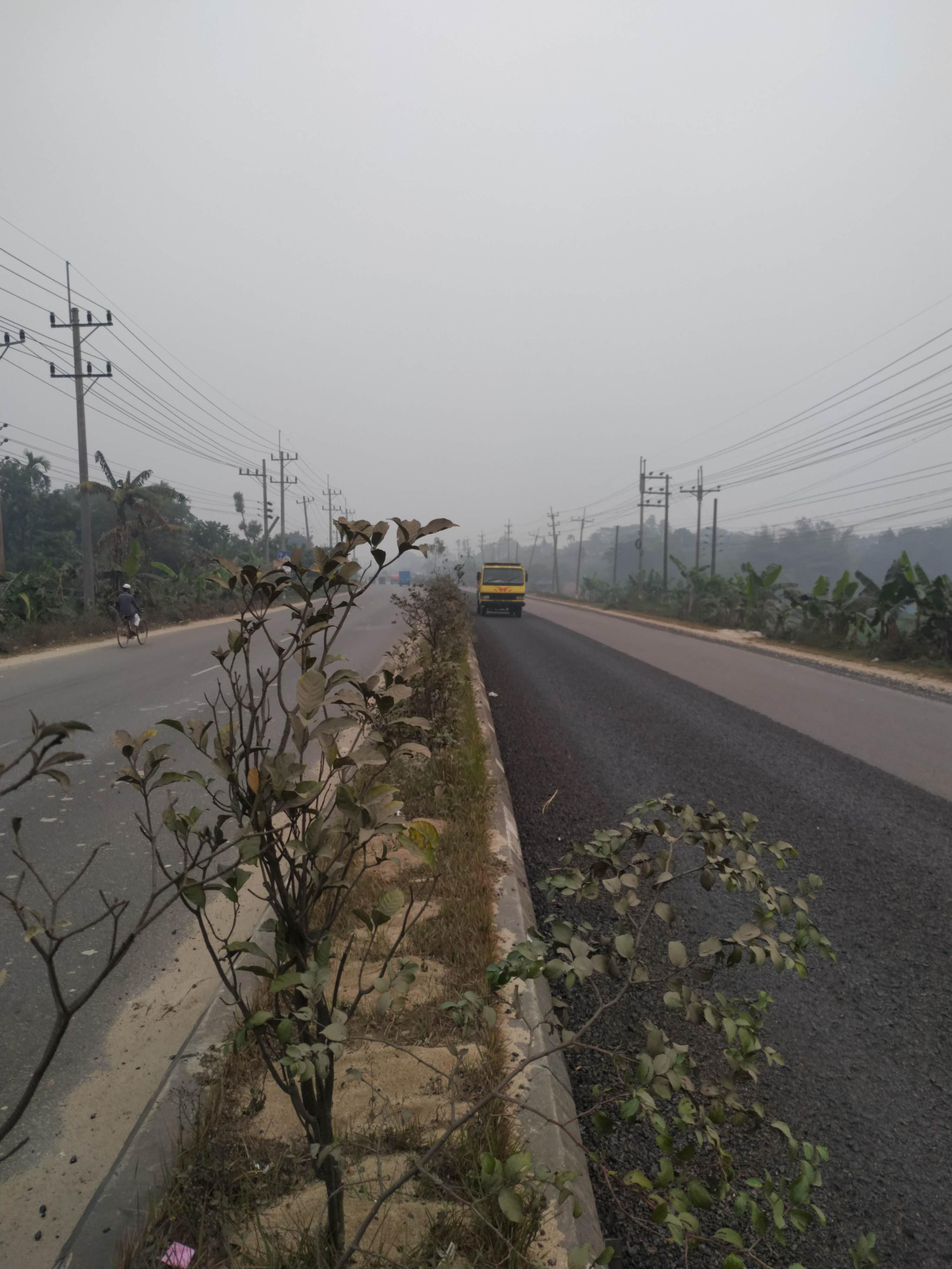Truck: (456, 551, 579, 645)
